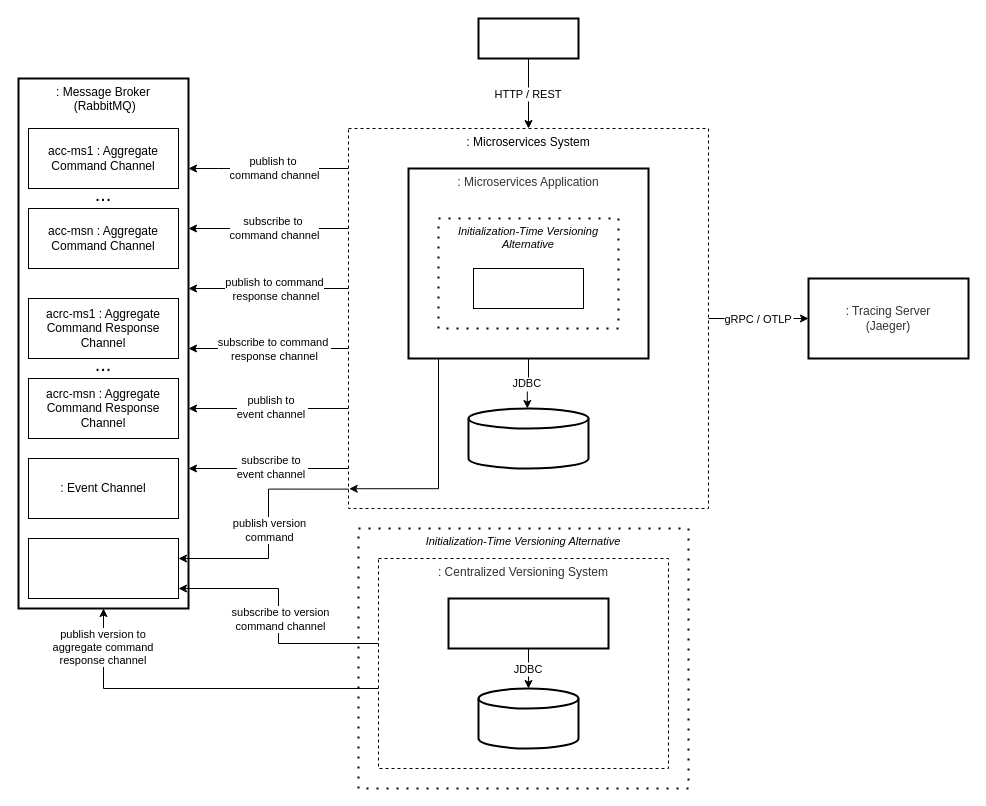
Image size: 986x806. Some labels were removed from this diagram. Each missing label, with the centre of its shape:
": Application DB" goes at (528,438).
": Version DB" goes at (528,718).
": Versioning Application" goes at (528,623).
": Web Client" goes at (528,38).
"acc-version : Version Command Channel" goes at (103,568).
"Snowflake ID" goes at (528,288).
